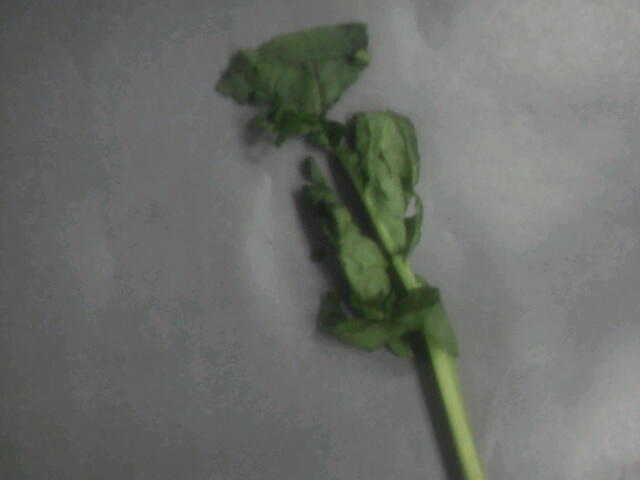yellow: (223, 33, 494, 410)
